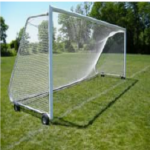goals: (7, 3, 128, 121)
